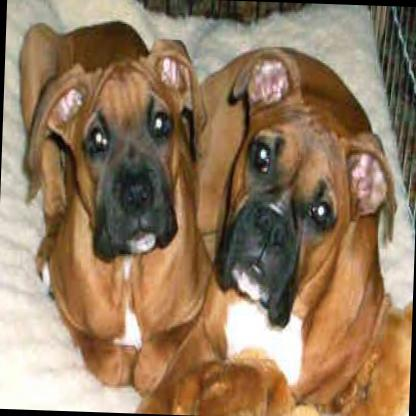boxer: (4, 11, 222, 394), (187, 37, 401, 410)
